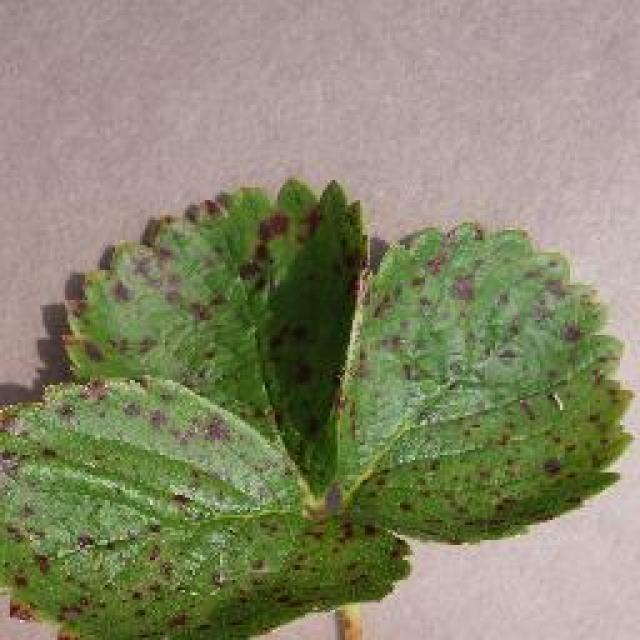Strawberry leaf scorch: (5, 250, 552, 610)
